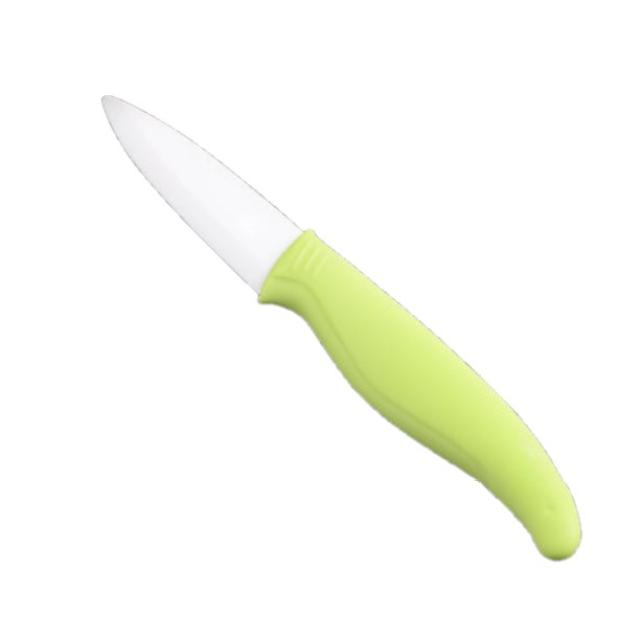knife: (99, 87, 588, 559)
